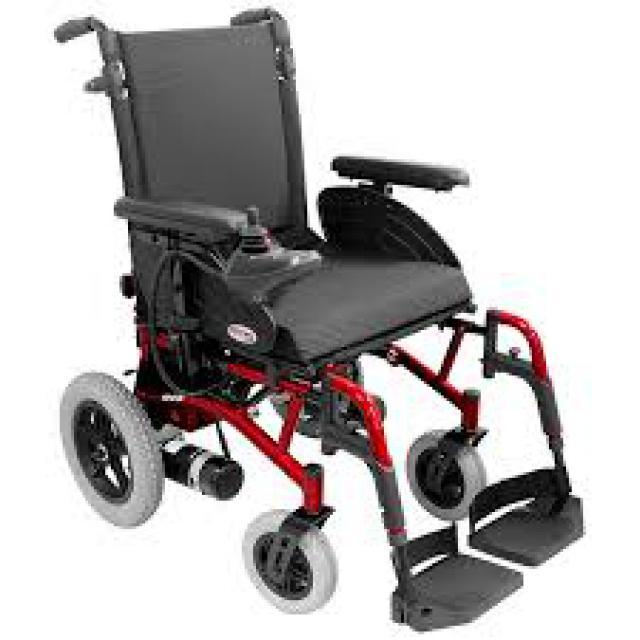wheelchair: (22, 2, 638, 638)
